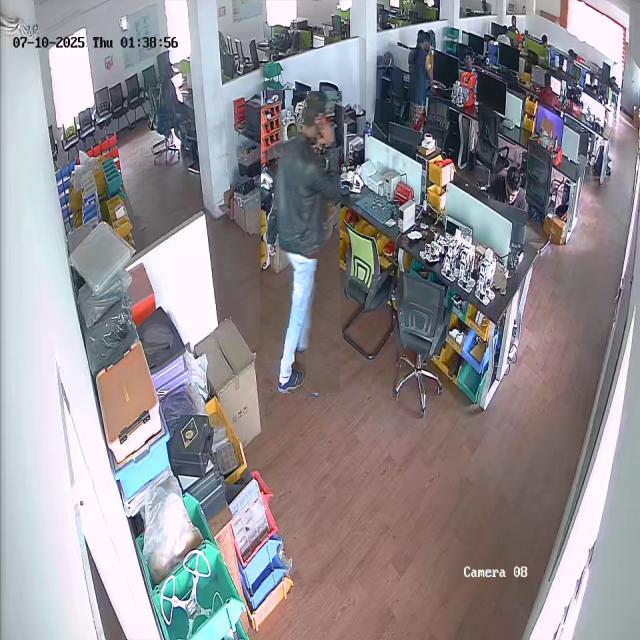person: (260, 91, 341, 393)
